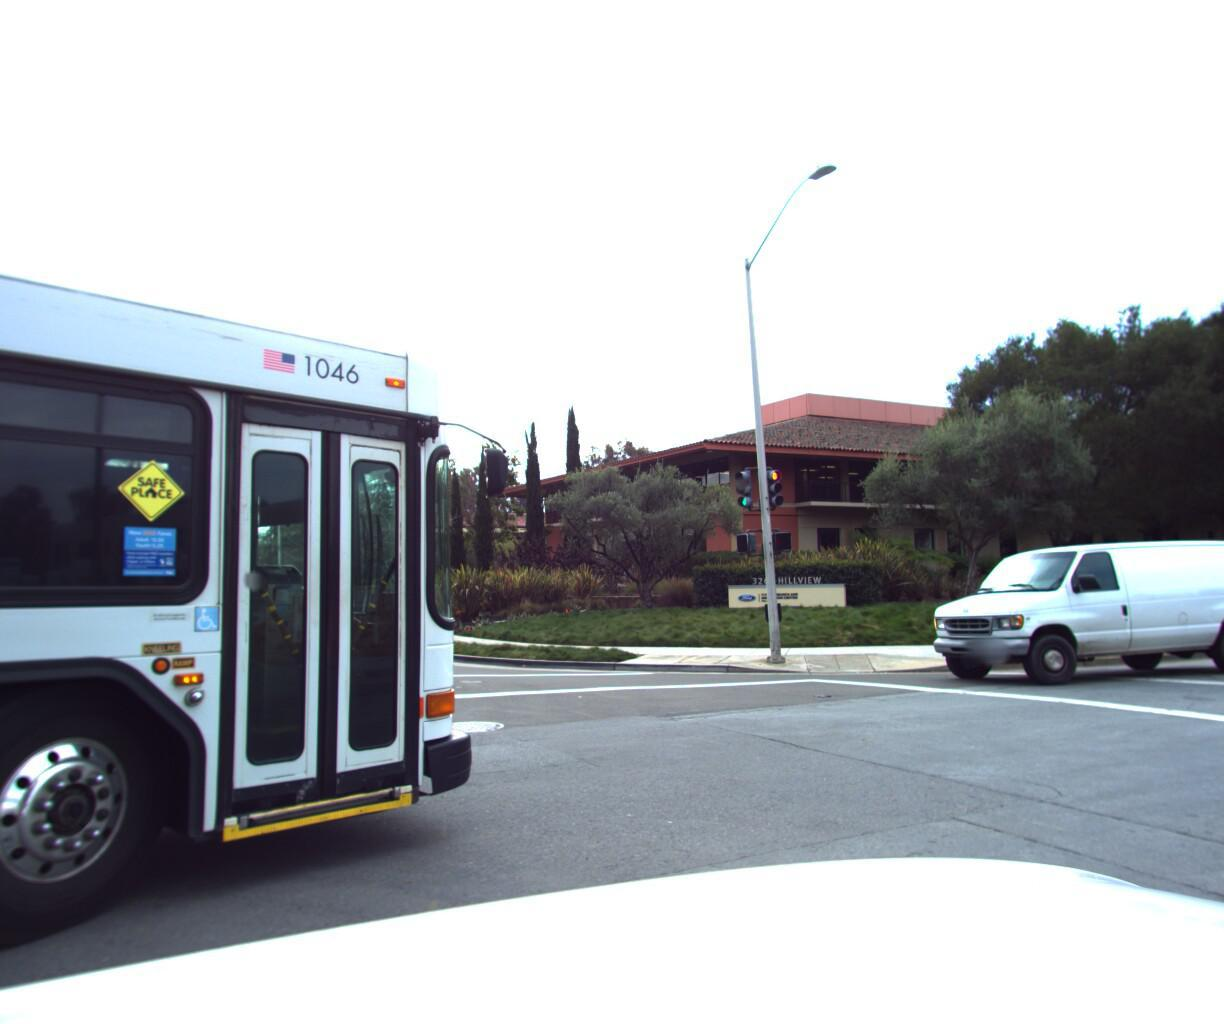car: (910, 526, 1224, 692)
